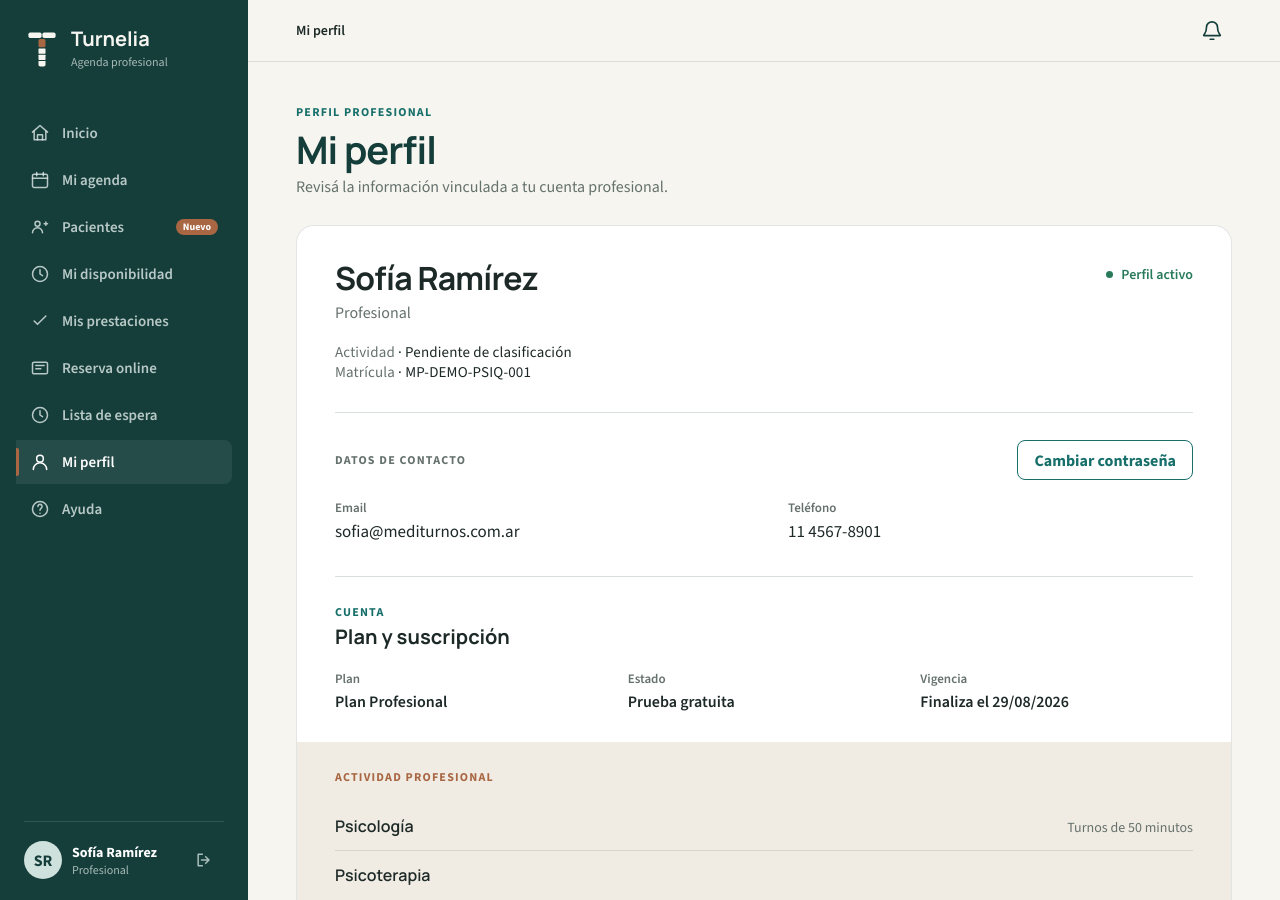
perfil profesional Salud Humana Signature › mantiene el modal abierto ante contraseña actual incorrecta
This screenshot has width=1280, height=900.
Check: the heading "Sofía Ramírez" is shown, box 335,256 -> 538,300
Click the button "Cambiar contraseña" at coordinates (1105, 460), box 1018,440 -> 1193,480
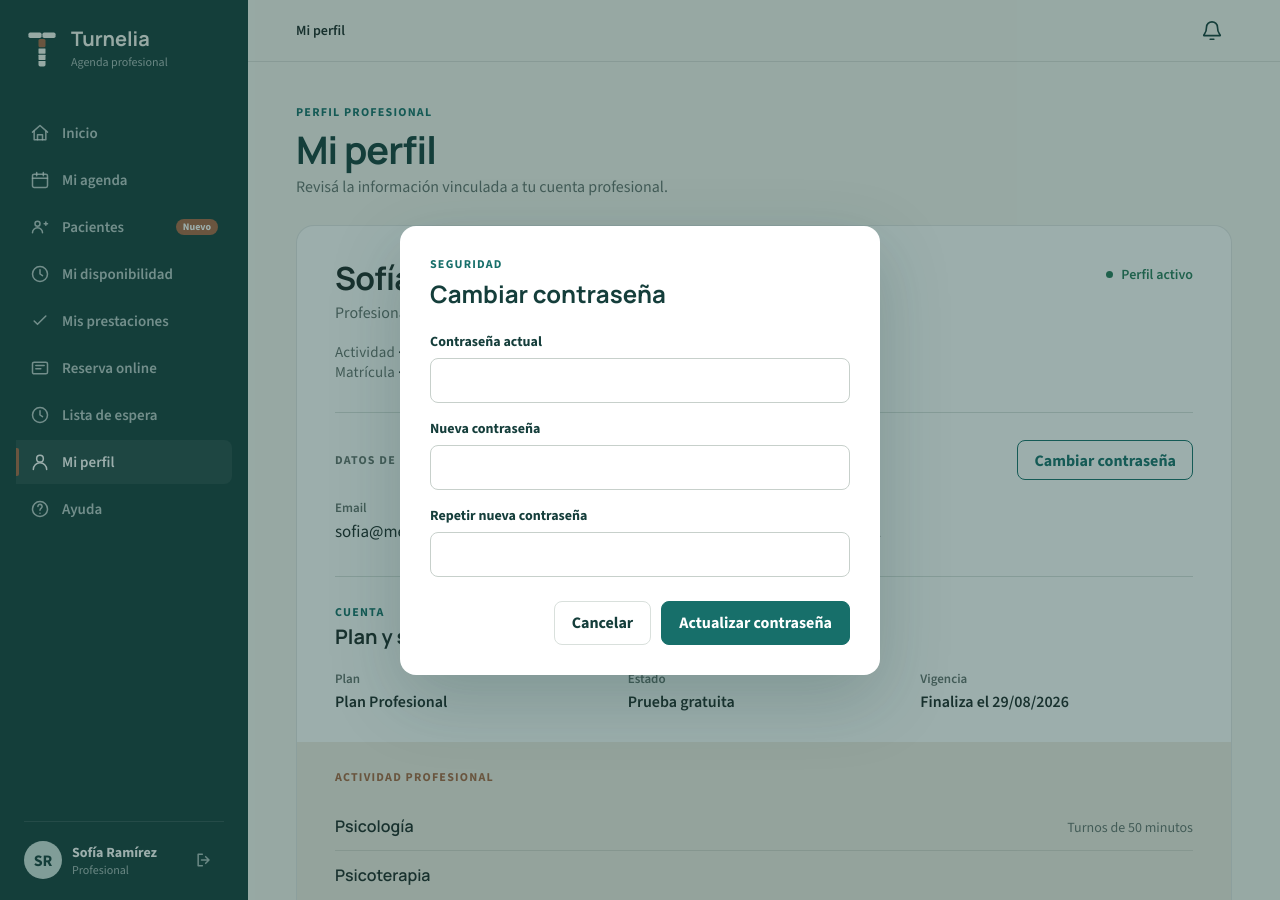
Type "incorrecta" into the password field labelled "Contraseña actual" at coordinates (640, 380), box 430,358 -> 850,402
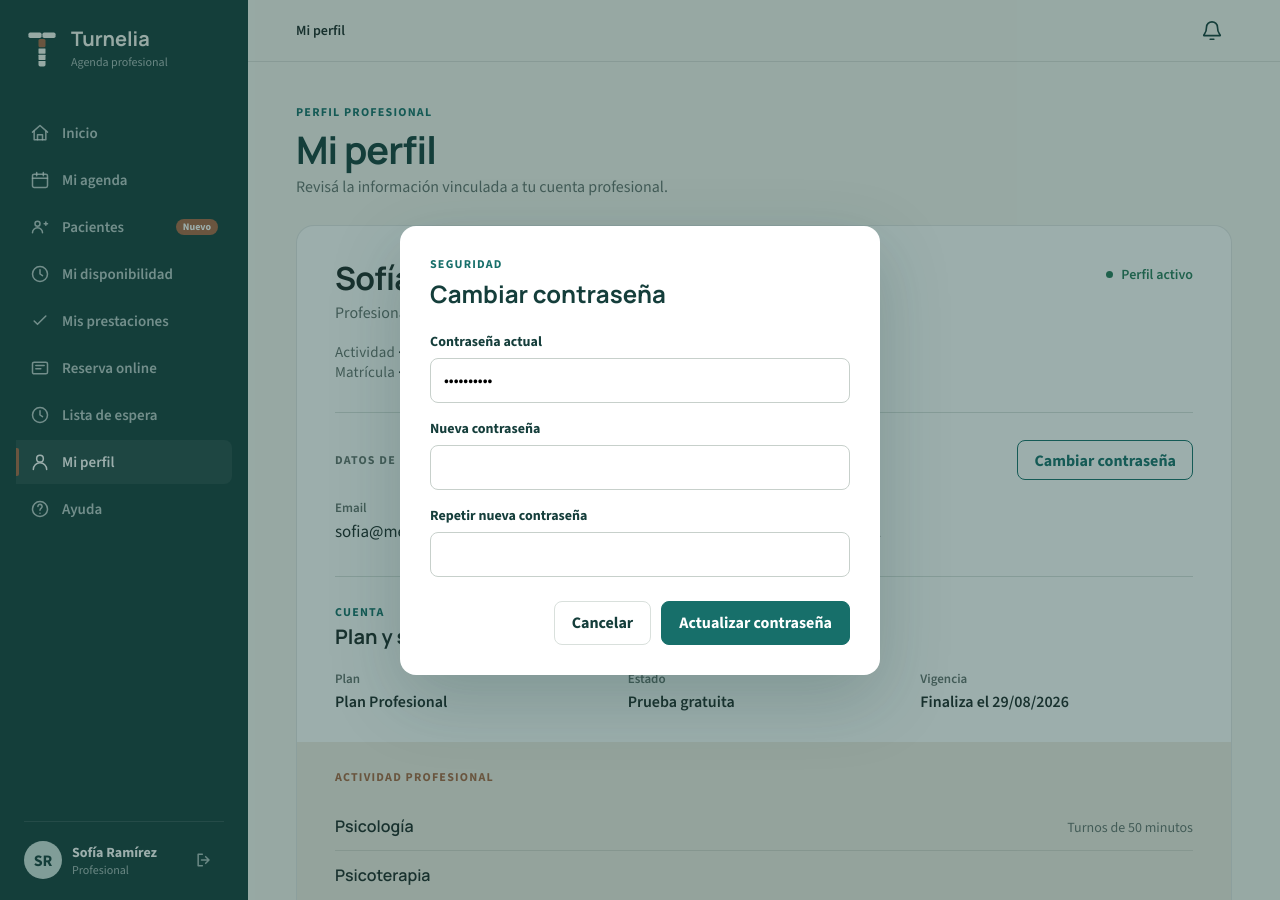
Type "password-renovada" into the password field labelled "Nueva contraseña" at coordinates (640, 467), box 430,444 -> 850,490
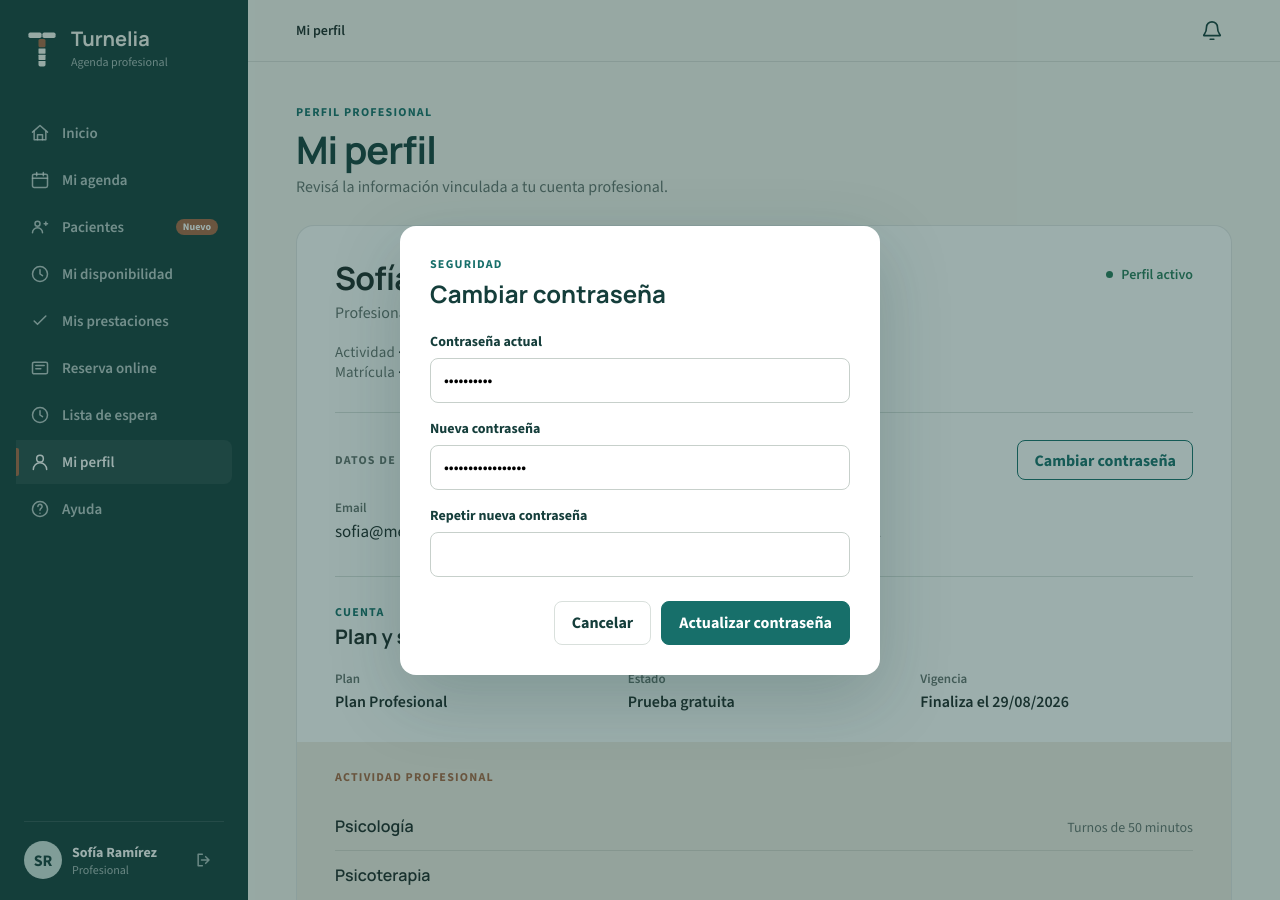
Type "password-renovada" into the password field labelled "Repetir nueva contraseña" at coordinates (640, 554), box 430,532 -> 850,576
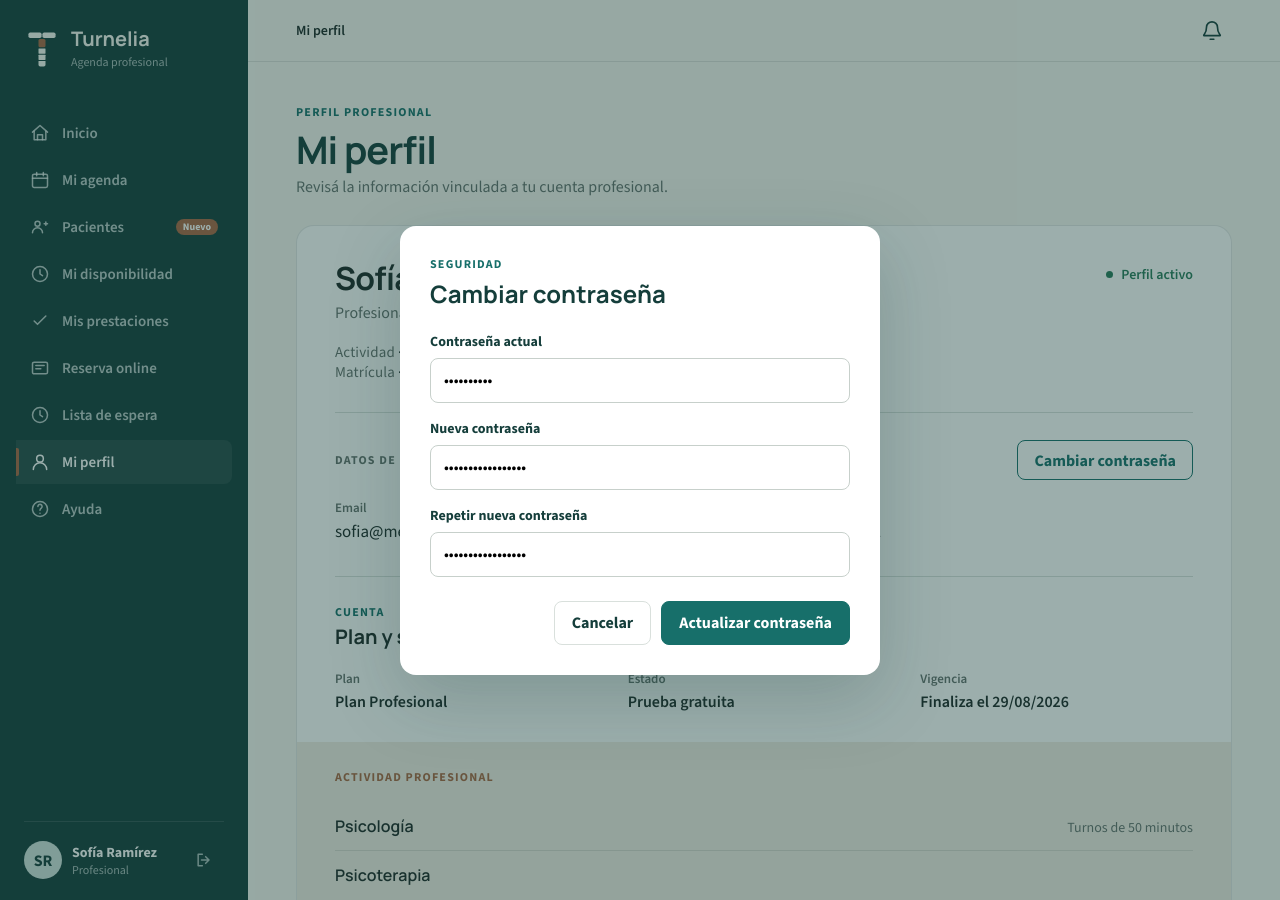
Submit the form named "Actualizar contraseña", box 430,332 -> 850,644
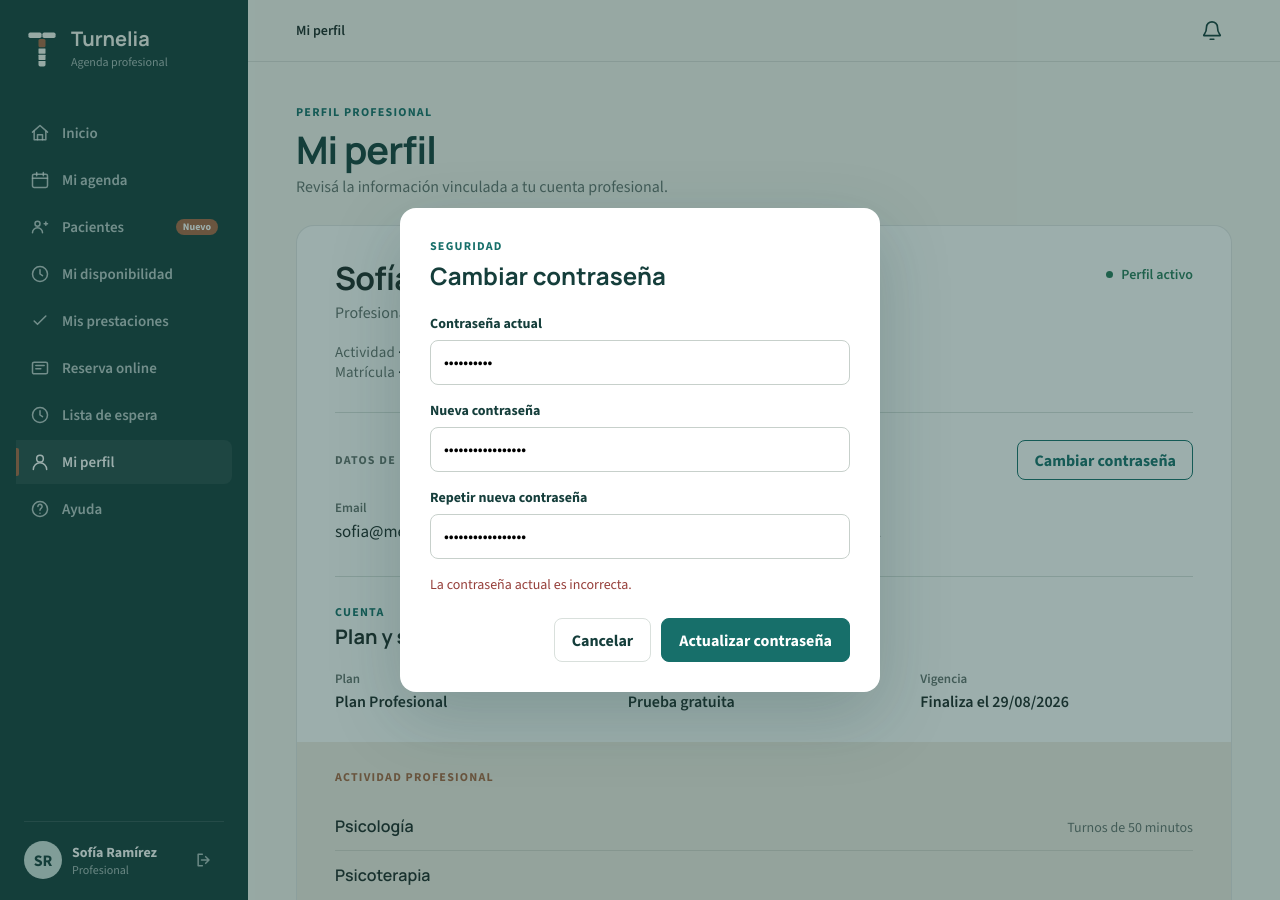
Check: the dialog is shown, box 400,208 -> 880,692
Check: the message reads "La contraseña actual es incorrecta.", box 430,575 -> 632,594
